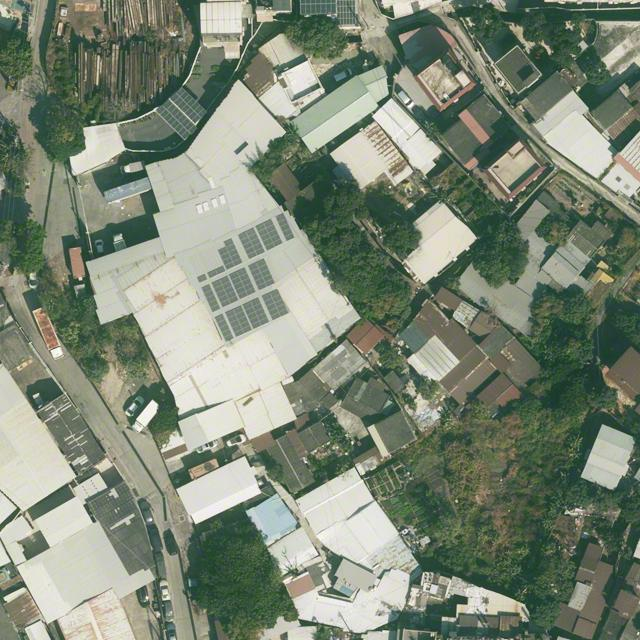panel: (202, 258, 288, 341), (239, 214, 294, 258), (155, 98, 198, 140), (169, 87, 207, 124), (219, 238, 243, 270), (197, 266, 225, 282)
